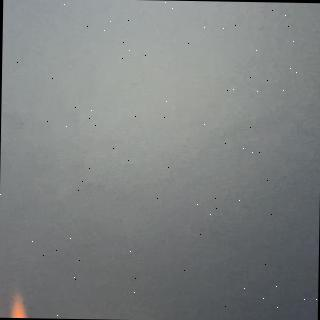fire: (6, 290, 34, 318)
